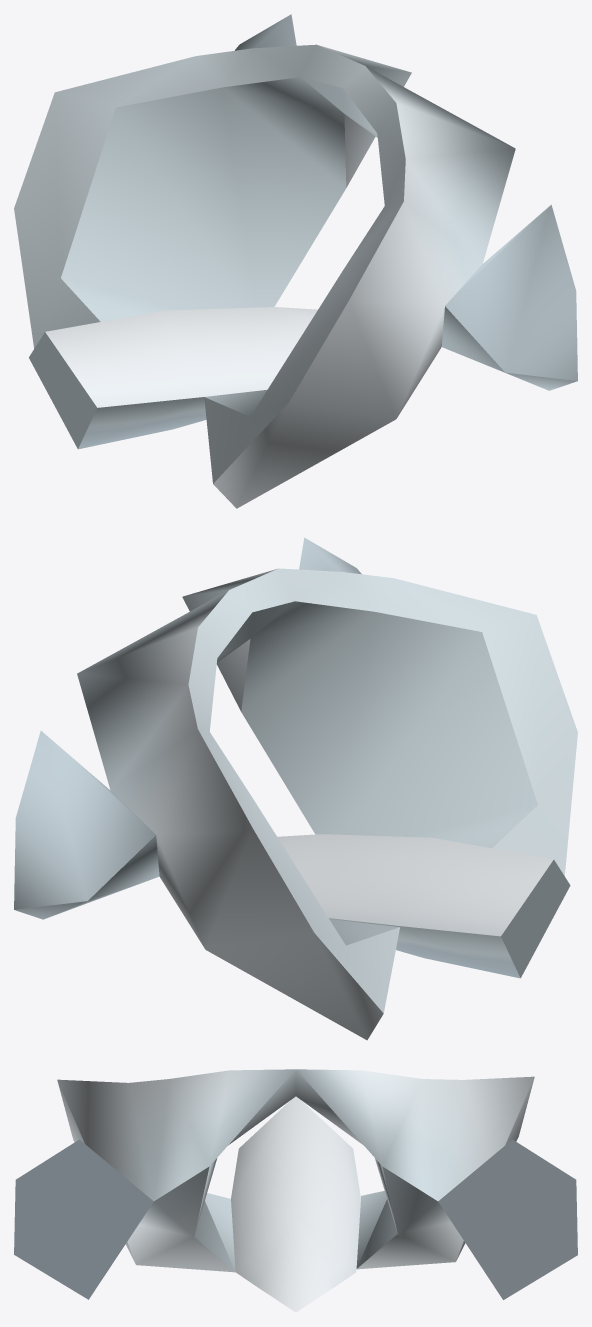
File: Bone_7_color_1.FBX
3 renders of one model, top to bottom at view 1: azimuth 30°, elevation 25°; view 2: azimuth 150°, elevation 25°; view 3: azimuth 270°, elevation 25°, orthographic. The views are drawn at different scales.
Visible parts, largest first — view 1: Bone; view 2: Bone; view 3: Bone.
Part boxes in pixels (left/top/right/bottom): Bone: left=14, top=14, right=577, bottom=508; Bone: left=14, top=537, right=577, bottom=1040; Bone: left=14, top=1069, right=577, bottom=1312.
Size of the model in its own units: 0.6377 by 0.4685 by 0.8932.
